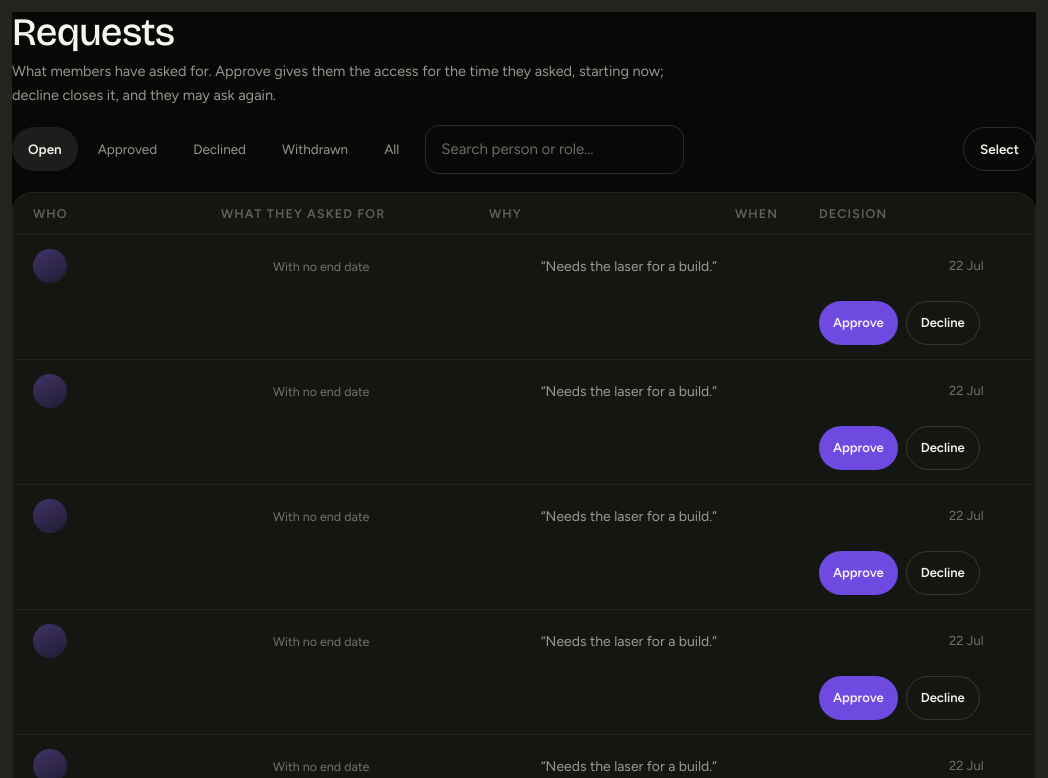
Test: the request queue states its ceiling before the tap › names the limit over 500
Click the button "Select" at [1000, 149], box [963, 127, 1036, 171]
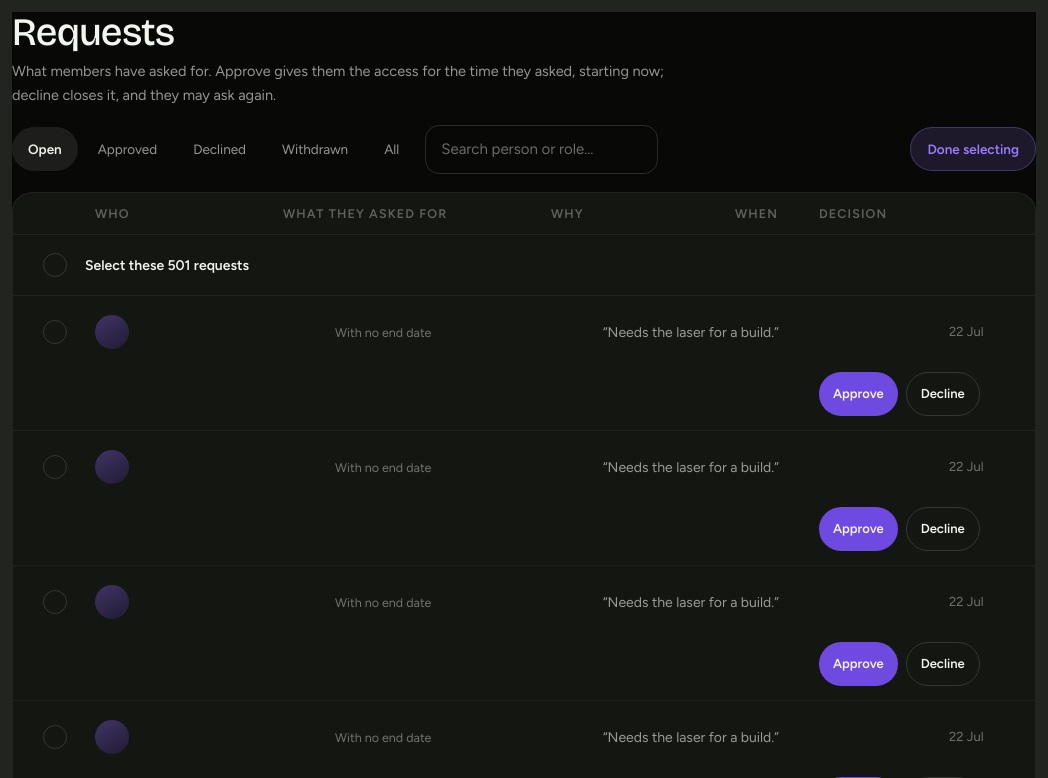
Click the 1st checkbox labelled "Select these 501 requests" at [167, 265], box [13, 234, 1035, 295]
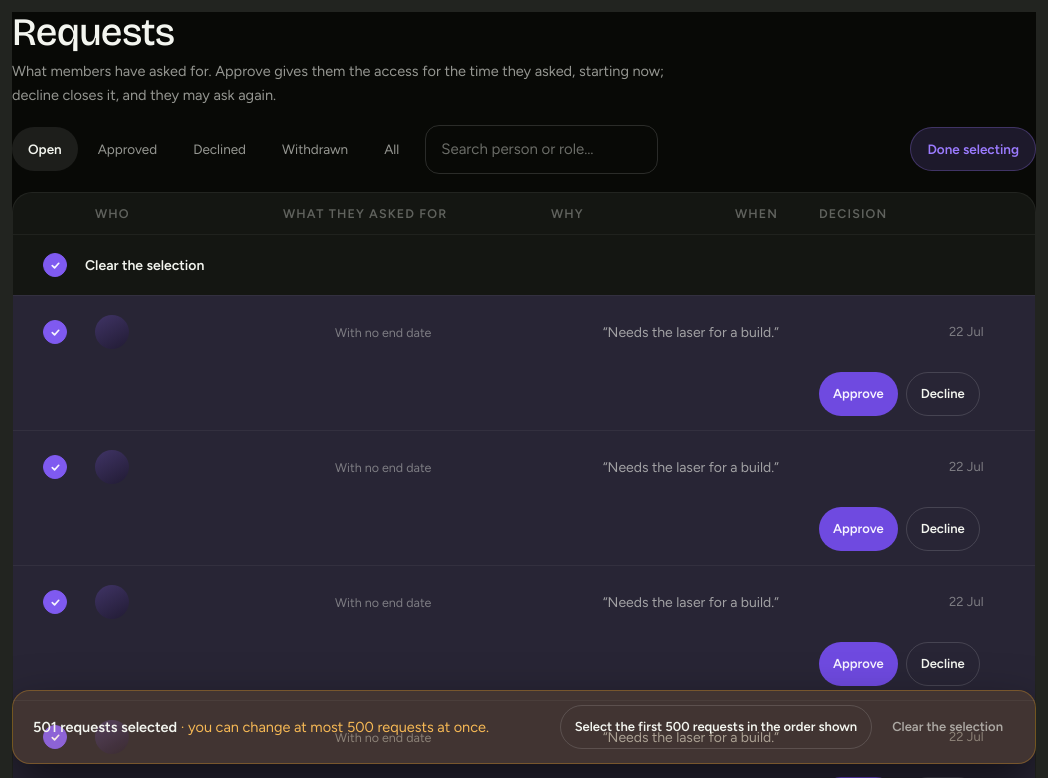
Expected: the text "· you can change at most 500 requests at once." is shown, [177, 718, 489, 736]
